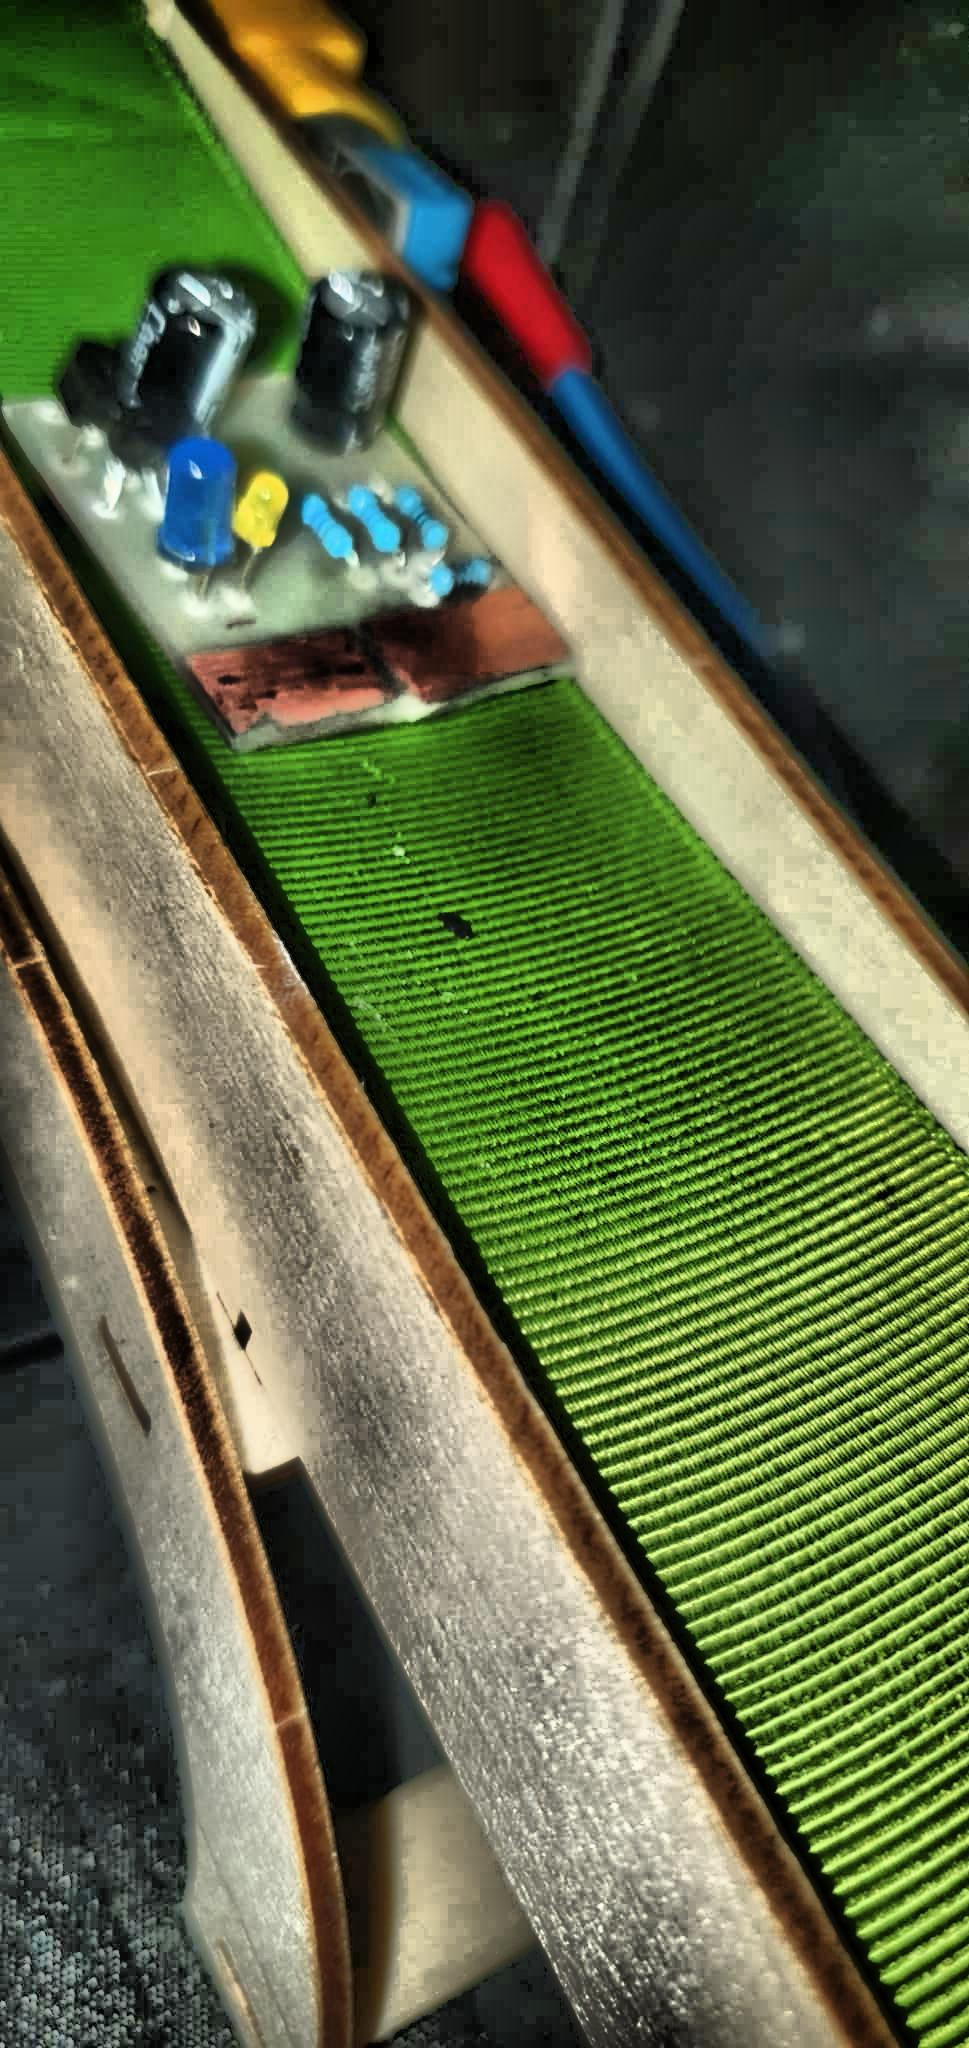IC: (360, 577, 585, 704), (176, 627, 393, 731)
